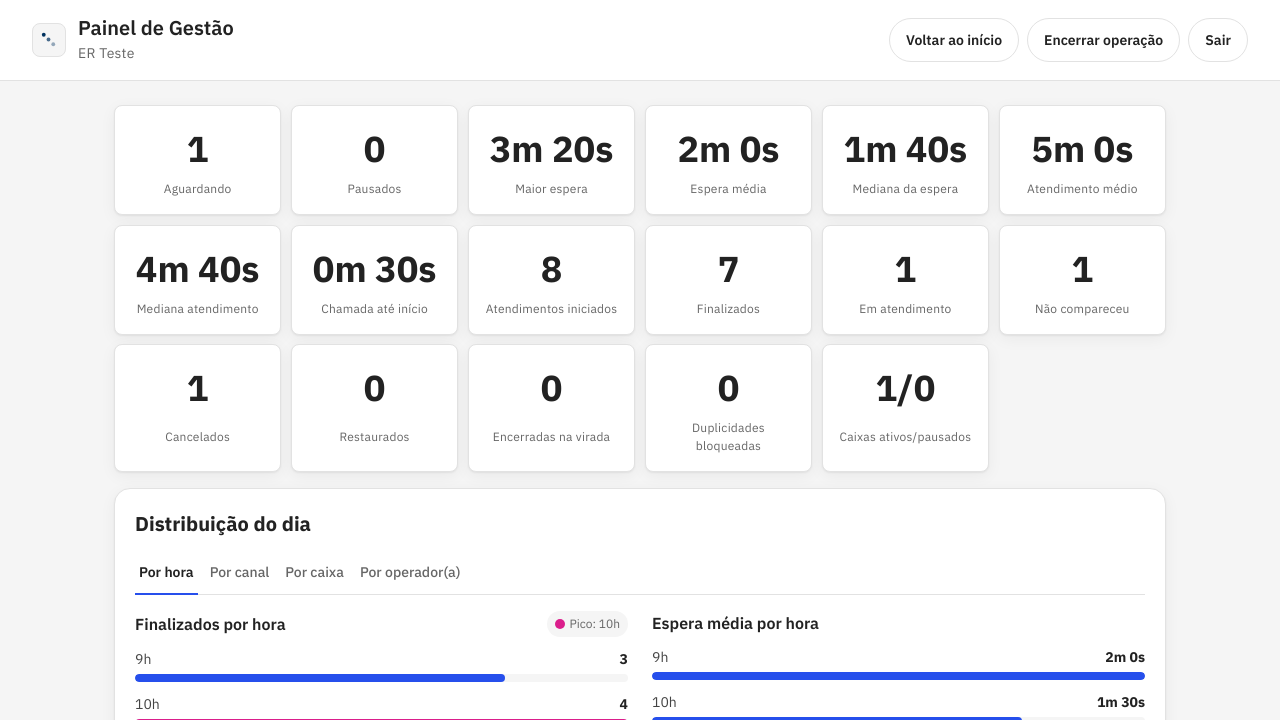
Test: ManagerPage › switches the day distribution tabs
Expected: the heading "Distribuição do dia" is shown, top-left (135, 510), bottom-right (311, 537)
Click the tab "Por canal". click: (240, 573)
box: top-left (206, 551), bottom-right (273, 595)
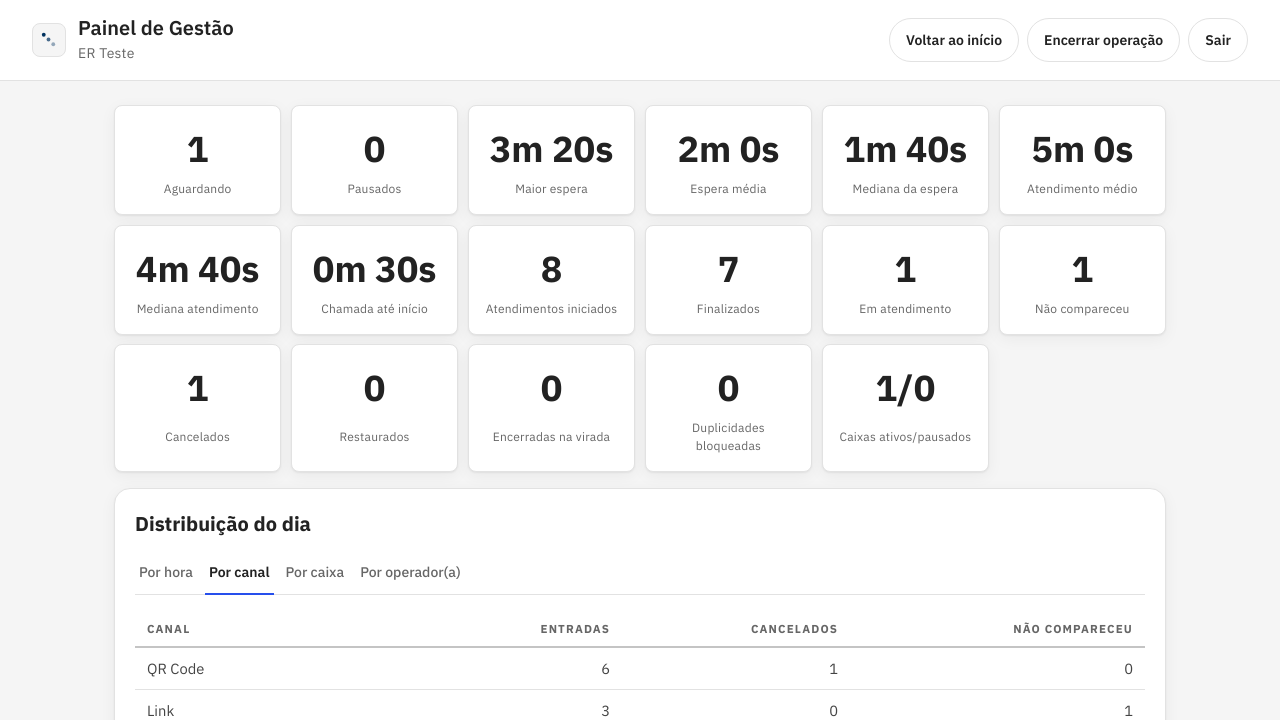
Now the column heading "Entradas" is shown, box top-left (430, 611), bottom-right (622, 647)
Click the tab "Por caixa". click: (315, 573)
box: top-left (282, 551), bottom-right (348, 595)
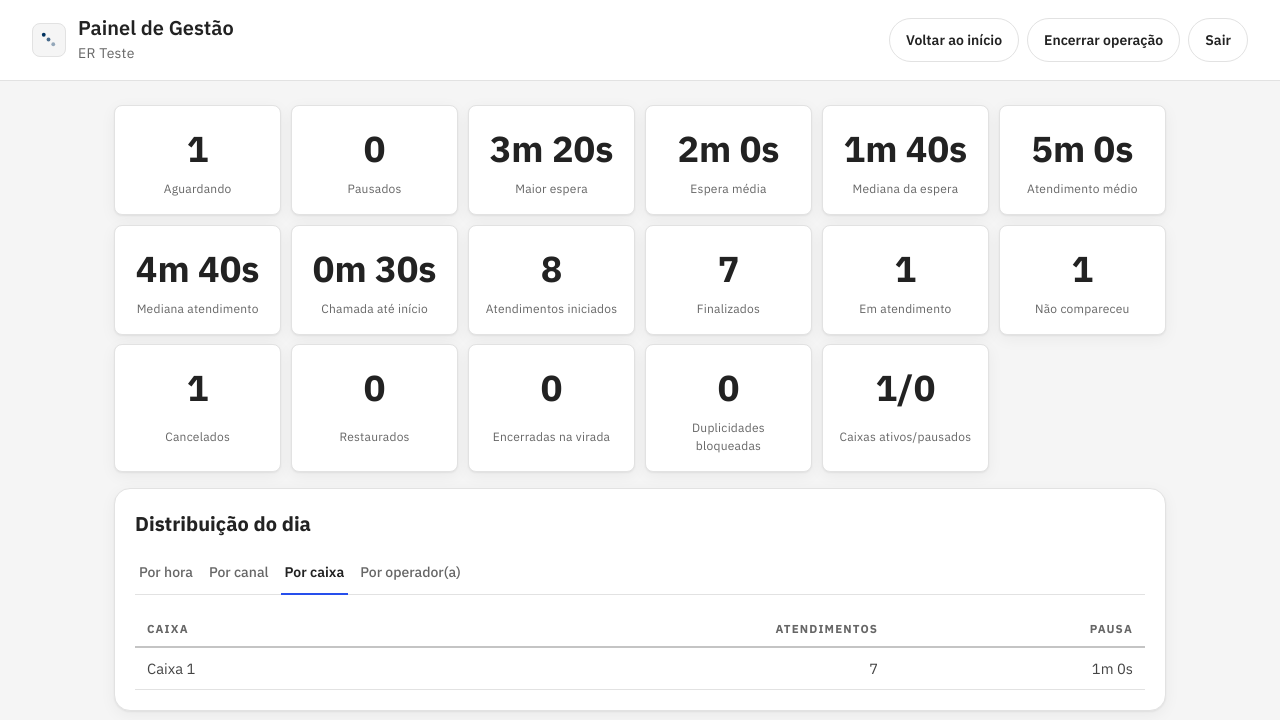
Now the column heading "Pausa" is shown, box top-left (890, 611), bottom-right (1145, 647)
Now the text "Caixa 1" is shown, box top-left (135, 647), bottom-right (410, 690)
Click the tab "Por operador(a)". click: (411, 573)
box: top-left (356, 551), bottom-right (465, 595)
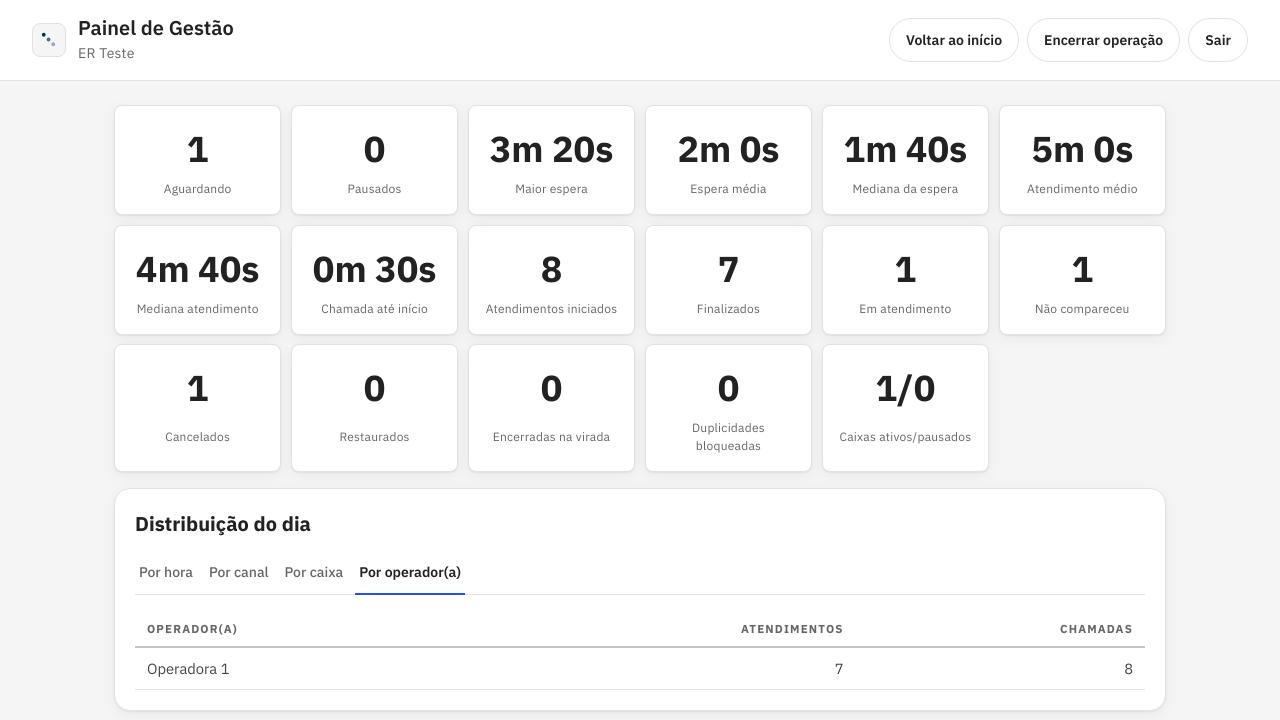
Now the column heading "Chamadas" is shown, box top-left (856, 611), bottom-right (1145, 647)
